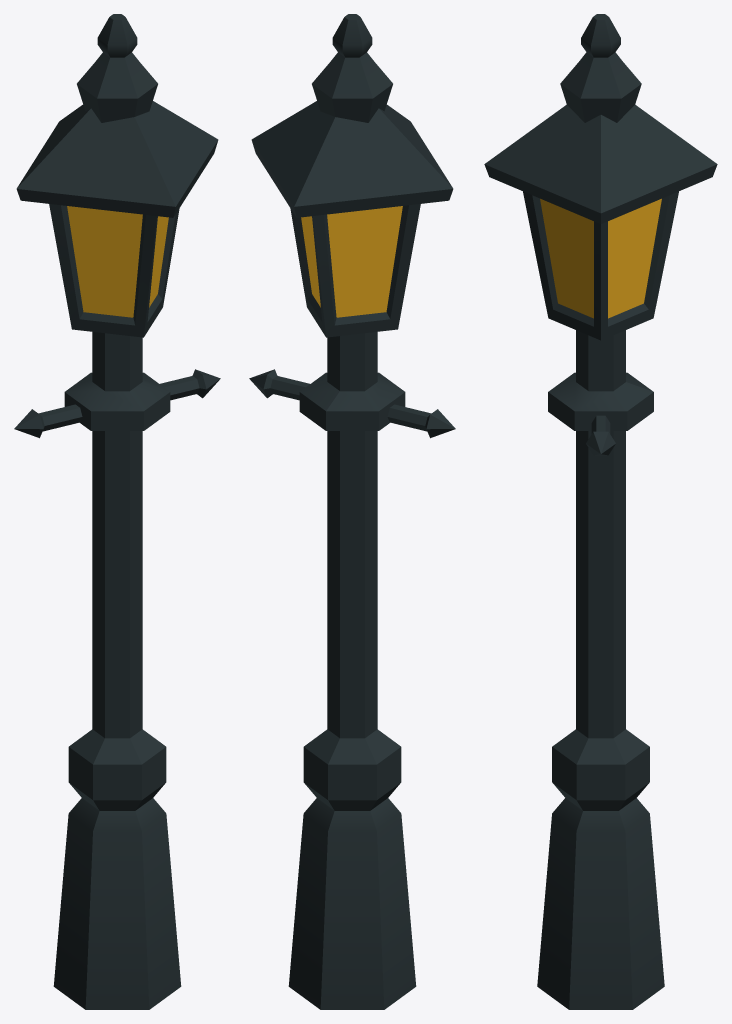
The model's file is lamppost.gltf.
The picture shows the model from 3 angles, left to right: view 1: azimuth 30°, elevation 25°; view 2: azimuth 150°, elevation 25°; view 3: azimuth 270°, elevation 25°; orthographic projection.
Visible parts, largest first — view 1: Cylinder096, Cylinder096_1; view 2: Cylinder096, Cylinder096_1; view 3: Cylinder096, Cylinder096_1.
Part boxes in pixels (box(x1,y1,x2,y2)): Cylinder096: box(14, 14, 220, 1009); Cylinder096_1: box(67, 206, 168, 317); Cylinder096: box(249, 14, 455, 1009); Cylinder096_1: box(301, 206, 402, 317); Cylinder096: box(484, 14, 717, 1009); Cylinder096_1: box(540, 198, 661, 318).
Size of the model in its own units: 0.6702 by 3 by 0.6541.
